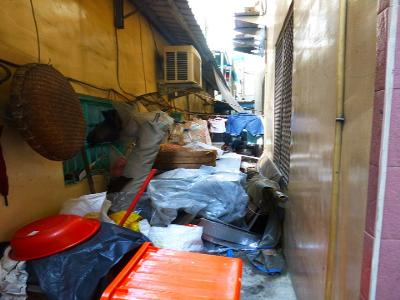bowl: (4, 213, 102, 263)
plastic_bag: (146, 167, 254, 227), (220, 108, 266, 144)
